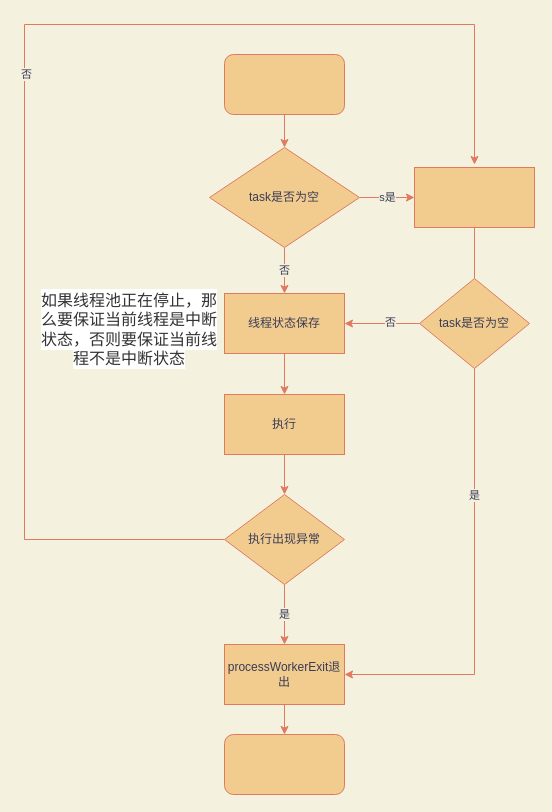
This 552x812 diagram has some shape labels left out. The box of each missing label's shape, as (x1, y1, x2, y2) in pixels:
getTask获取任务: (414, 166, 534, 228)
开始: (224, 54, 344, 114)
结束: (224, 734, 344, 794)
